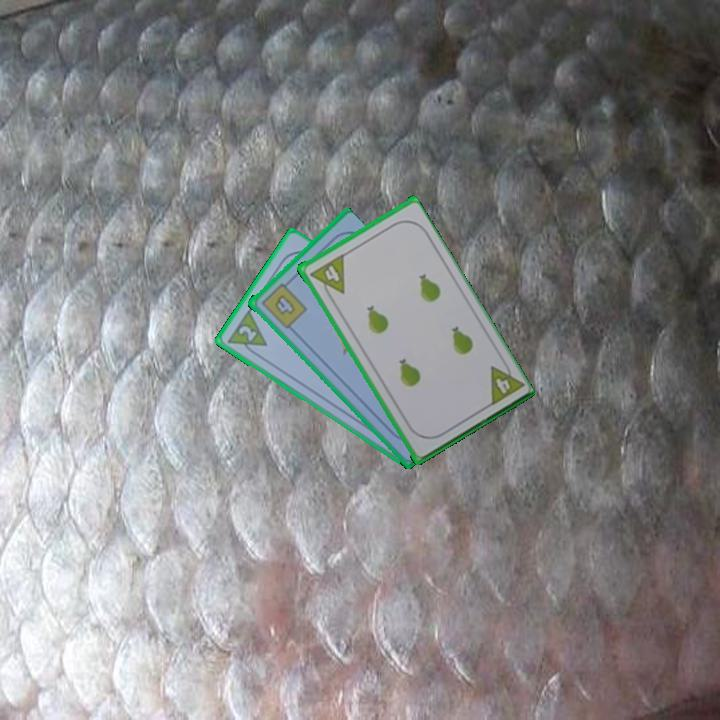2p: (234, 322, 259, 345)
4b: (257, 277, 309, 331)
4p: (485, 355, 526, 409), (305, 251, 348, 302)
